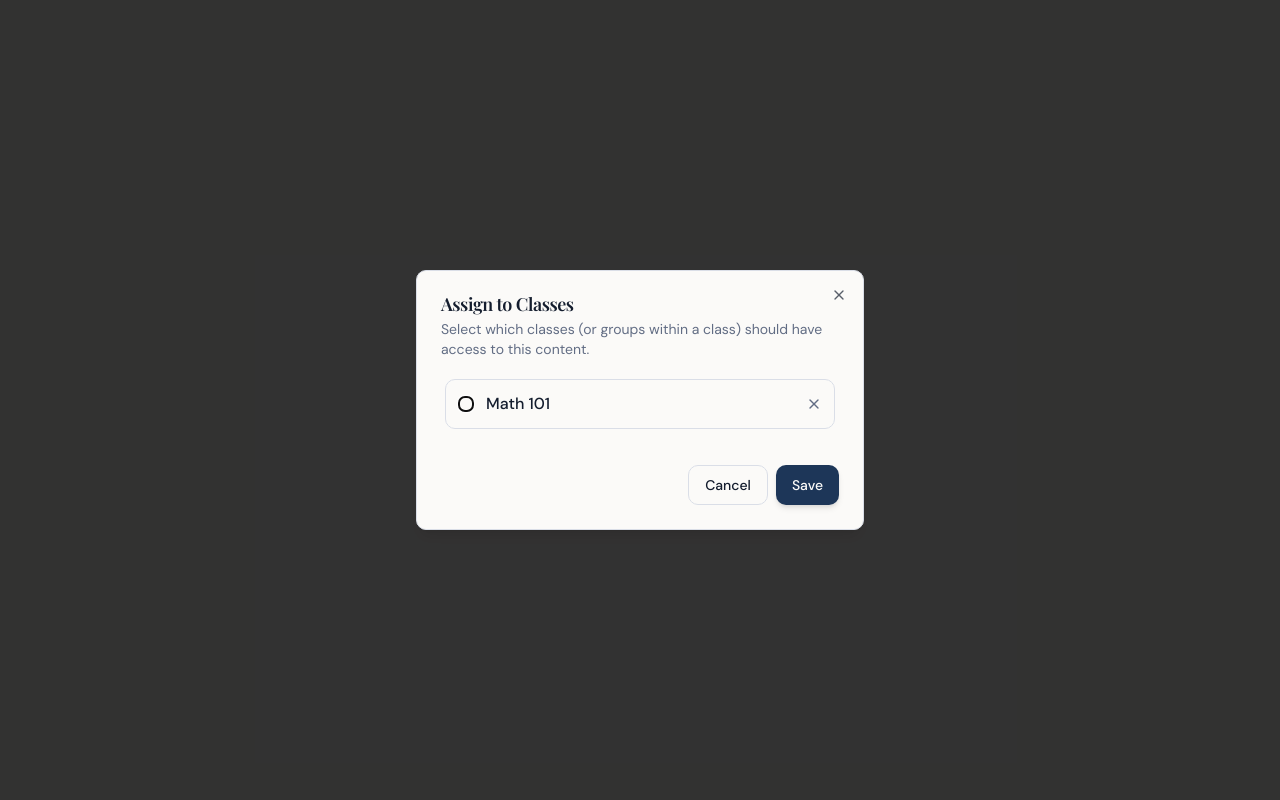
Scenario: ContentAssignDialog › keeps unsaved picks when the caller re-renders with a fresh targets array
Later steps or results of the test are not shown.
Click the checkbox named "Math 101".
click(466, 404)  # box [458,396,474,412]
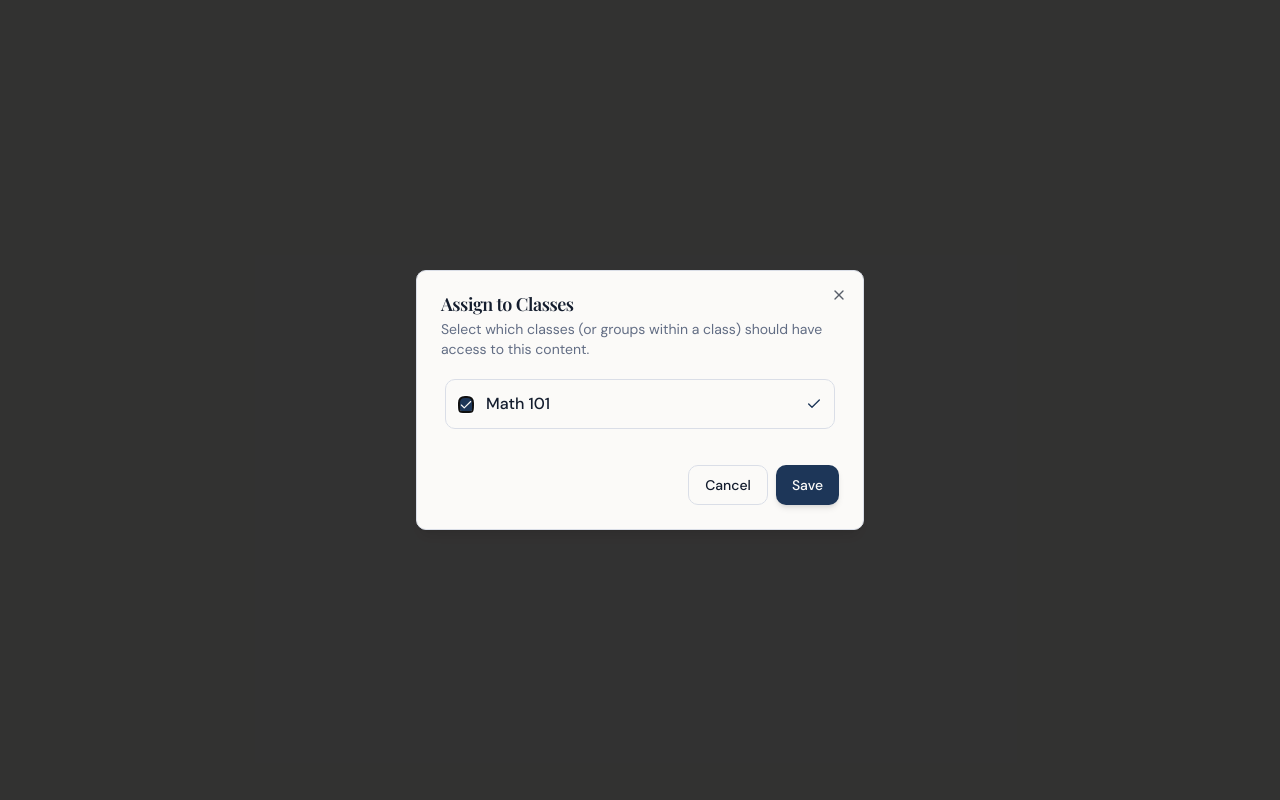
Now the checkbox named "Math 101" has attribute data-state="checked", box [458,396,474,412]
